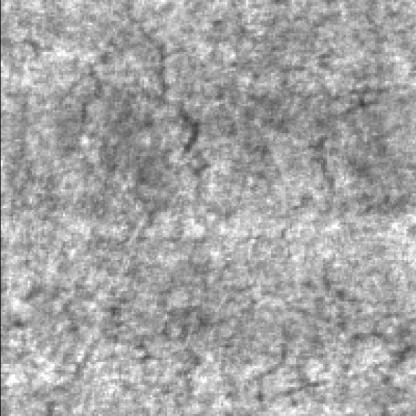crazing: (67, 21, 212, 206)
